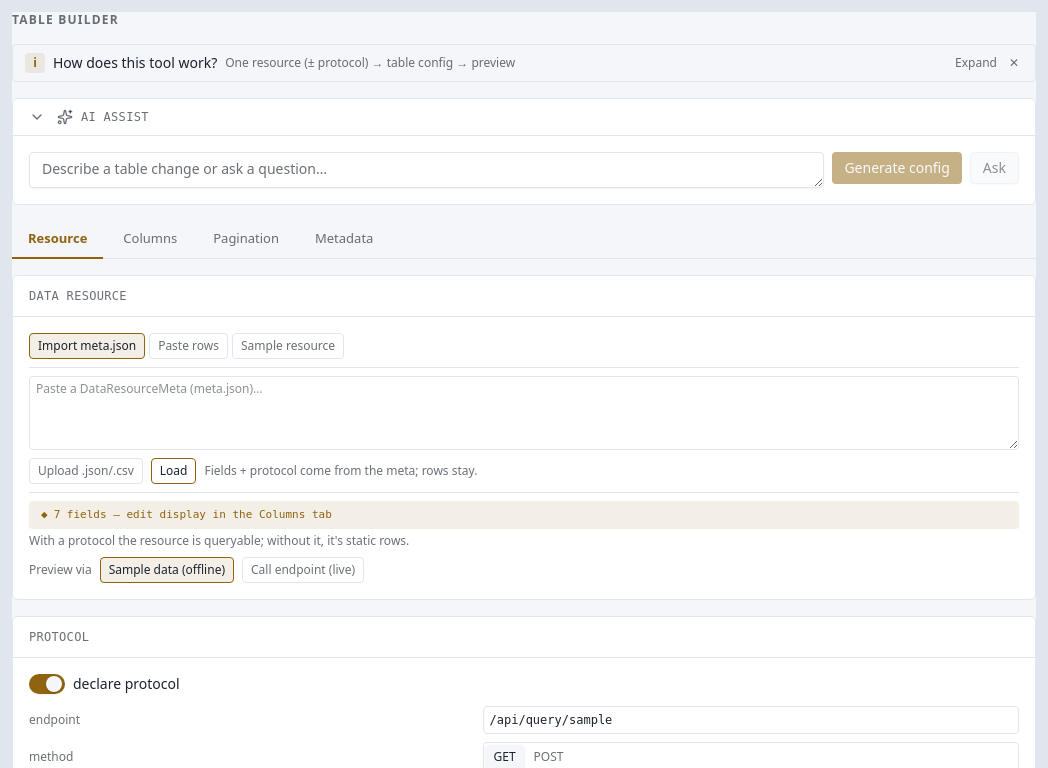
TableBuilderTool › tabs swap the editor panel while the preview table stays visible
Expected: the heading "Data resource" is shown, [29,288,127,304]
Click the button "Columns" at (150, 240), box [107,221,193,258]
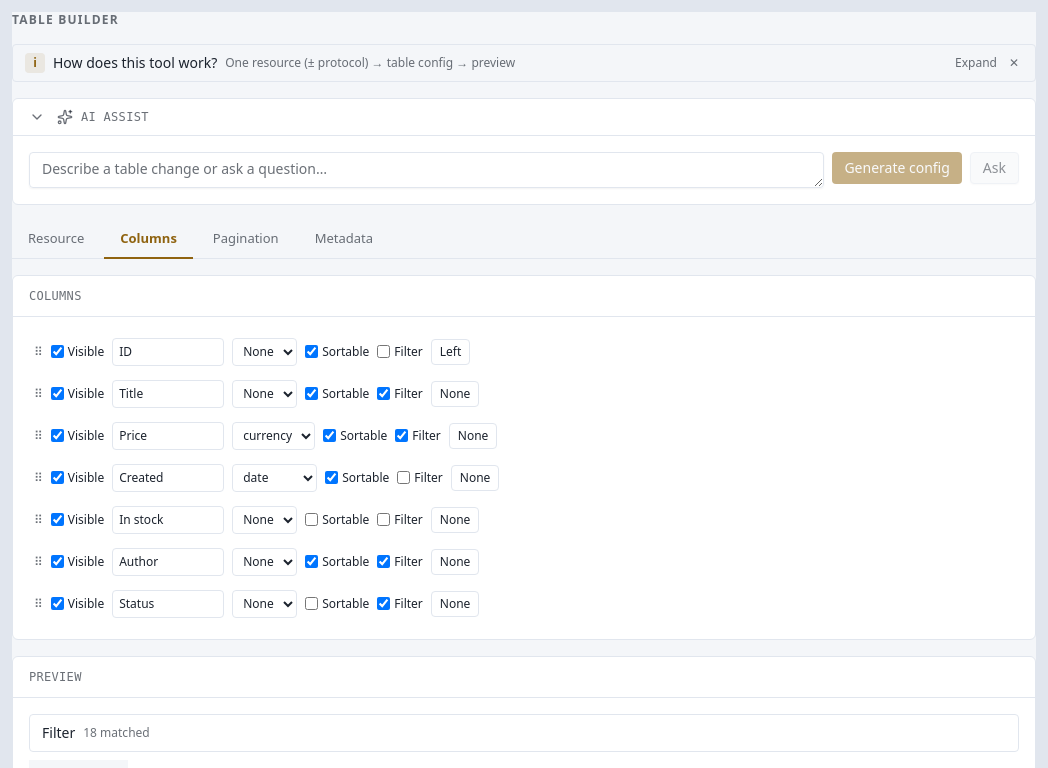
Expected: the heading "Columns" is shown, [29,288,82,304]
Expected: the heading "Data resource" is gone
